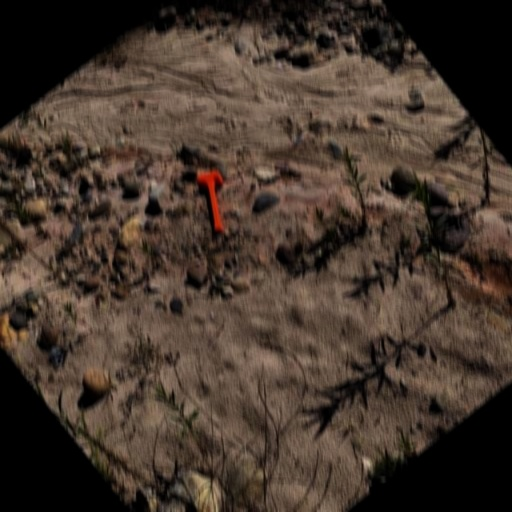mallet: (178, 158, 252, 240)
